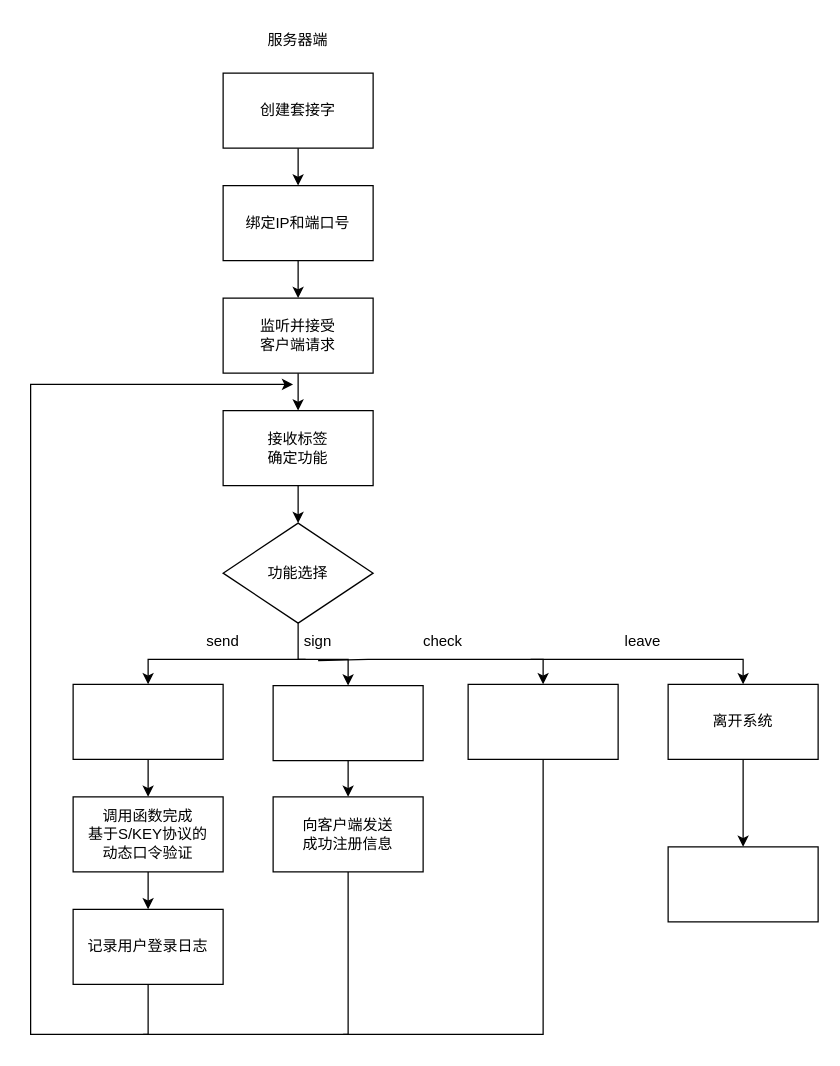
Image size: 840x1066. Some labels were removed from this diagram. The box of each missing label's shape, as (x1, y1, x2, y2) in pixels:
向用户端发送 用户登录日志: (467, 683, 618, 759)
完成初始化: (72, 683, 223, 759)
接收用户名 存入系统: (272, 684, 423, 761)
服务器端 关闭套接字 结束通信: (667, 846, 818, 922)
